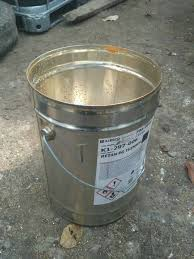metal: (26, 43, 164, 229)
